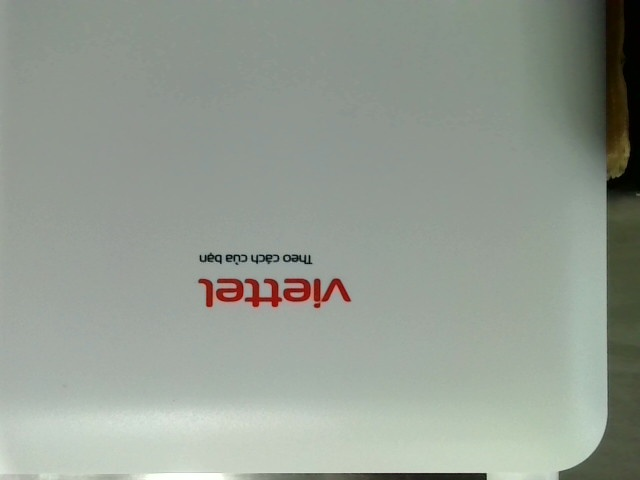AY_Viettel: (193, 246, 353, 311)
